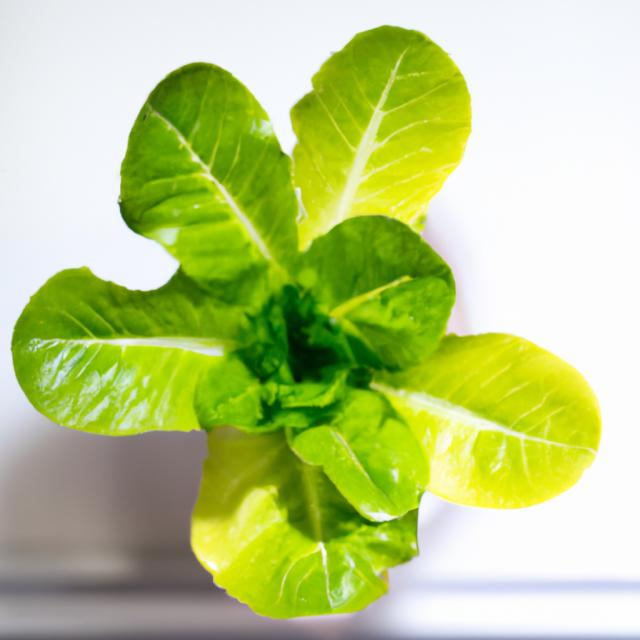-N: (2, 12, 612, 630)
